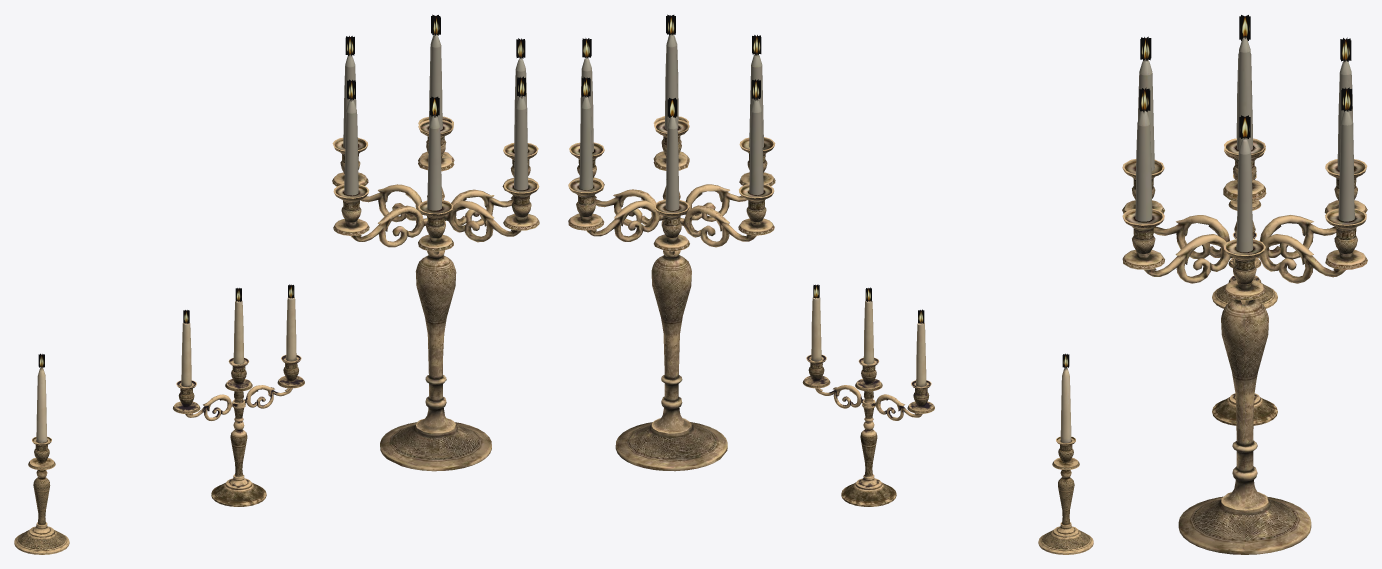
Rendered from brass_candleholders.glb.
3 renders of one model, left to right at view 1: azimuth 30°, elevation 25°; view 2: azimuth 150°, elevation 25°; view 3: azimuth 270°, elevation 25°, orthographic. The views are drawn at different scales.
Parts seen in each view (by area): view 1: brass_candleholder_03, brass_candleholder_02, brass_candleholder_01; view 2: brass_candleholder_03, brass_candleholder_02, brass_candleholder_01; view 3: brass_candleholder_03, brass_candleholder_02, brass_candleholder_01.
Boxes of the visible parts, <box> form: brass_candleholder_03: <box>332,14,539,471</box>; brass_candleholder_02: <box>173,284,304,506</box>; brass_candleholder_01: <box>14,353,69,554</box>; brass_candleholder_03: <box>568,14,775,471</box>; brass_candleholder_02: <box>802,284,934,506</box>; brass_candleholder_01: <box>1038,353,1093,554</box>; brass_candleholder_03: <box>1122,15,1367,554</box>; brass_candleholder_02: <box>1212,232,1277,425</box>; brass_candleholder_01: <box>1212,174,1277,308</box>.
Size of the model in its own units: 1.05 by 0.8353 by 0.3644.
5 materials, 5 textured.
